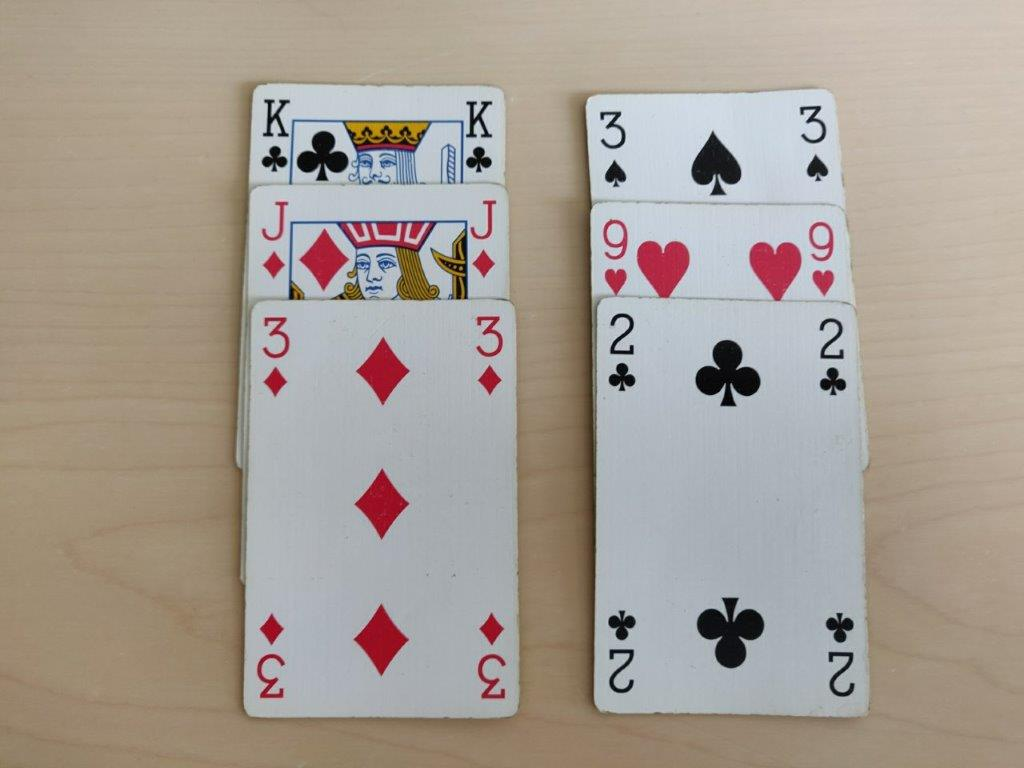2C: (598, 307, 642, 396), (812, 313, 852, 402)
3D: (254, 304, 293, 403), (470, 310, 507, 399)
3S: (790, 97, 834, 186), (593, 105, 633, 191)
9H: (593, 209, 631, 300), (805, 215, 838, 300)
JD: (463, 190, 500, 280), (253, 195, 293, 278)
KC: (459, 95, 499, 177), (256, 94, 291, 177)
